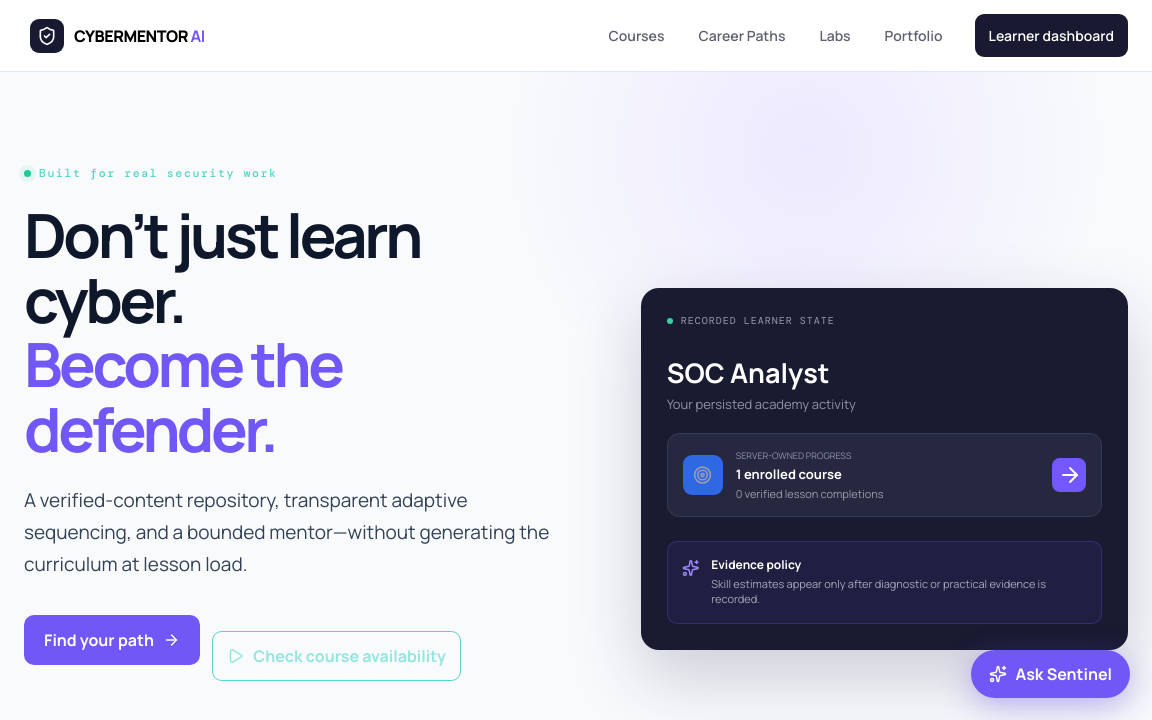
Test: connected learner experience › blocks legacy outlines from learner delivery
Click the button "Check course availability". click: (337, 656)
box: [212,630,461,680]
(page scrolled)
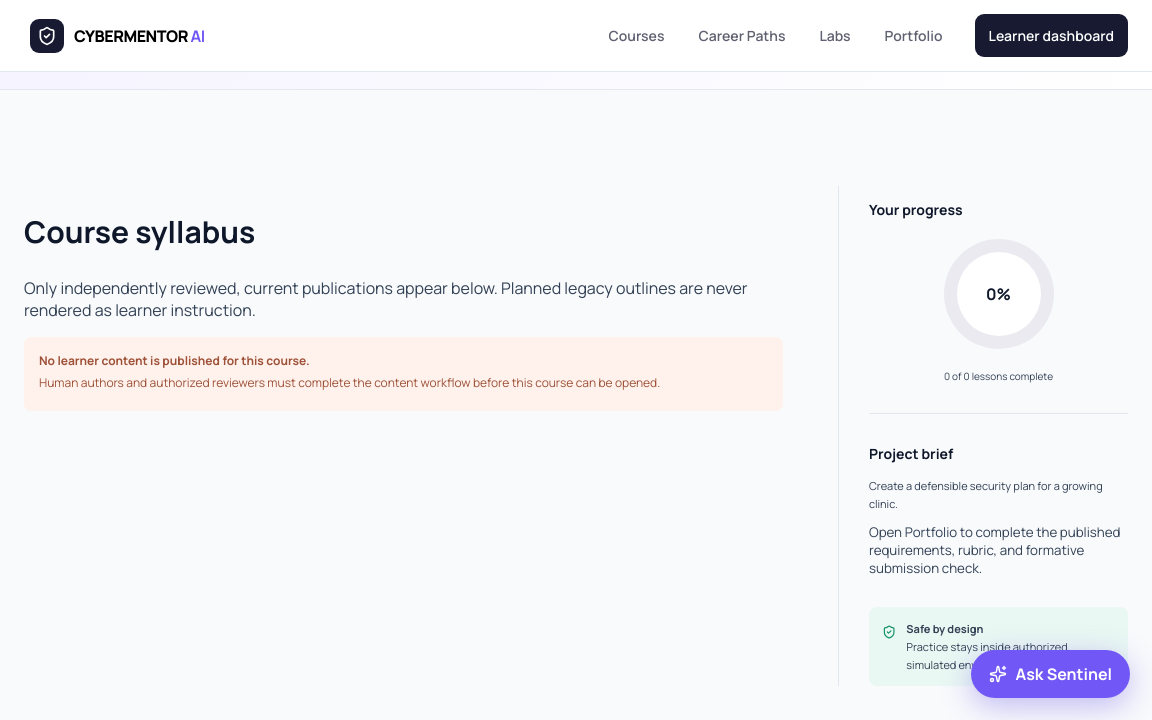
Now the text "No learner content is published for this course." is shown, box [39,352,310,369]
